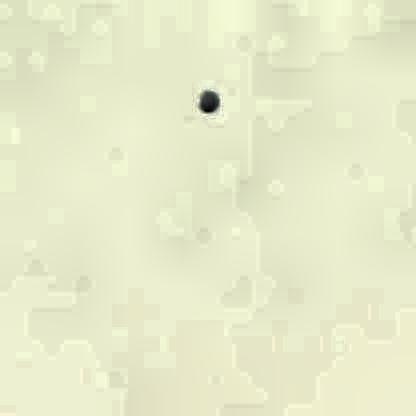golfball: (194, 87, 219, 111)
